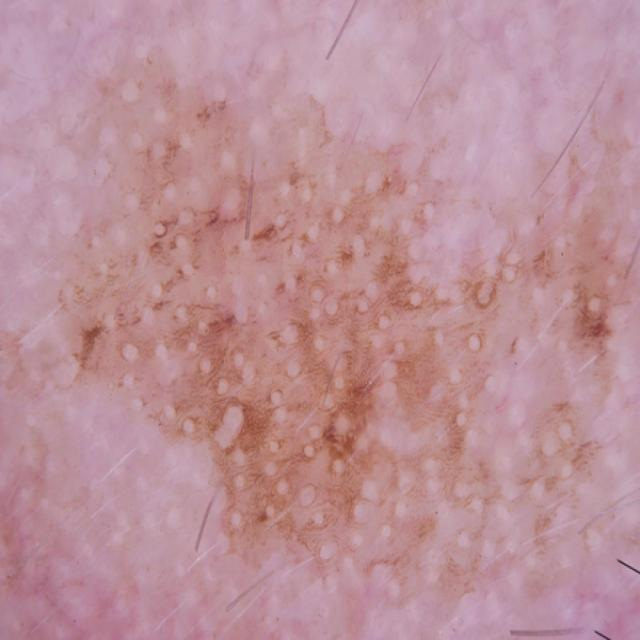Skin-Cancer Pigmented benign keratosis: (16, 12, 635, 622)
